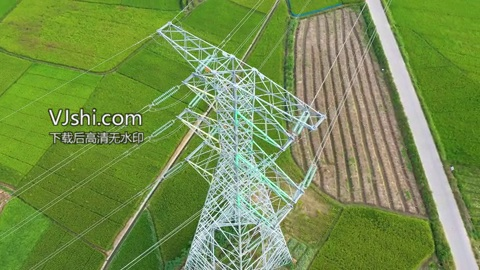tower_body: (148, 11, 336, 270)
tower_foot: (180, 213, 294, 269)
tower_head: (154, 18, 328, 135)
